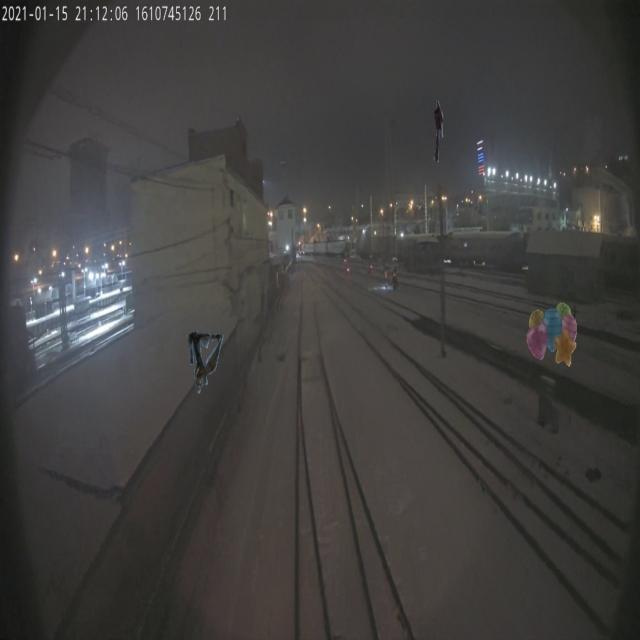balloon: (526, 302, 578, 366)
floating object: (186, 329, 224, 394), (433, 98, 443, 162)
